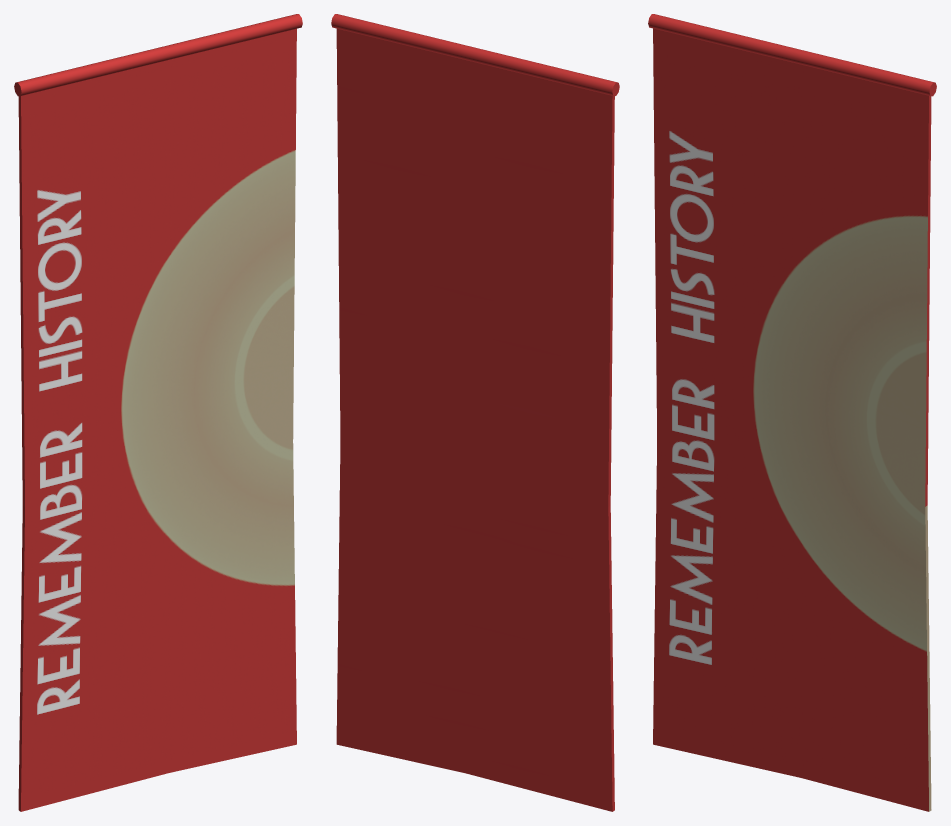
The model's file is RedBanner.fbx.
3 renders of one model, left to right at view 1: azimuth 30°, elevation 25°; view 2: azimuth 150°, elevation 25°; view 3: azimuth 330°, elevation 25°, orthographic.
Visible parts, largest first — view 1: Cylinder.001; view 2: Cylinder.001; view 3: Cylinder.001.
Part boxes in pixels (<box>): Cylinder.001: <box>14,14,302,811</box>; Cylinder.001: <box>331,14,619,811</box>; Cylinder.001: <box>648,14,936,811</box>.
Size of the model in its own units: 204 by 505 by 9.4.
